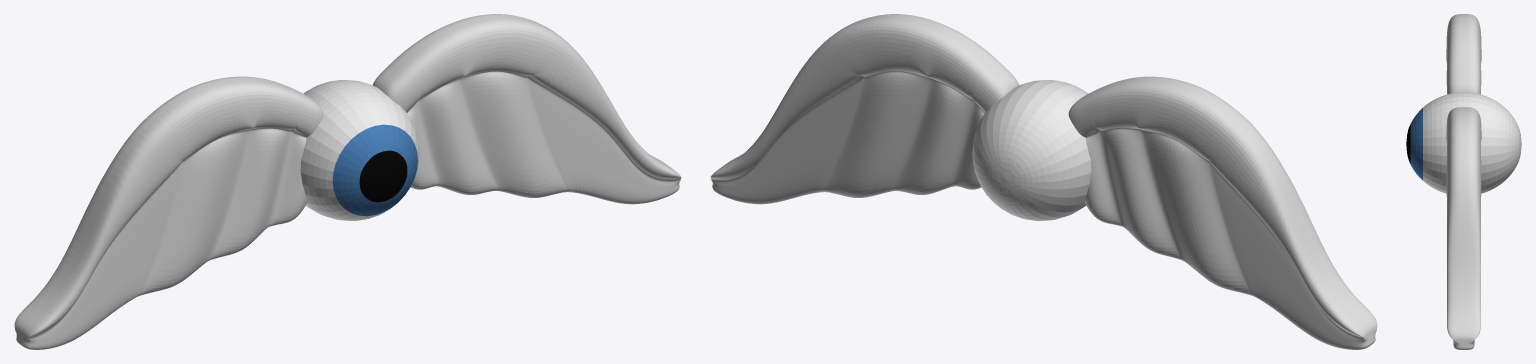
File: HeavenPaddle.fbx
The picture shows the model from 3 angles, left to right: view 1: azimuth 30°, elevation 25°; view 2: azimuth 150°, elevation 25°; view 3: azimuth 270°, elevation 25°; orthographic projection. The views are drawn at different scales.
Visible parts, largest first — view 1: Plane.002, Sphere.018; view 2: Plane.002, Sphere.018; view 3: Plane.002, Sphere.018.
Part boxes in pixels (x1=…): Plane.002: x1=14, y1=14, x2=681, y2=349; Sphere.018: x1=300, y1=80, x2=419, y2=220; Plane.002: x1=710, y1=14, x2=1377, y2=349; Sphere.018: x1=972, y1=80, x2=1091, y2=220; Plane.002: x1=1446, y1=14, x2=1481, y2=349; Sphere.018: x1=1406, y1=92, x2=1521, y2=193.
Size of the model in its own units: 297 by 95.26 by 60.4.
